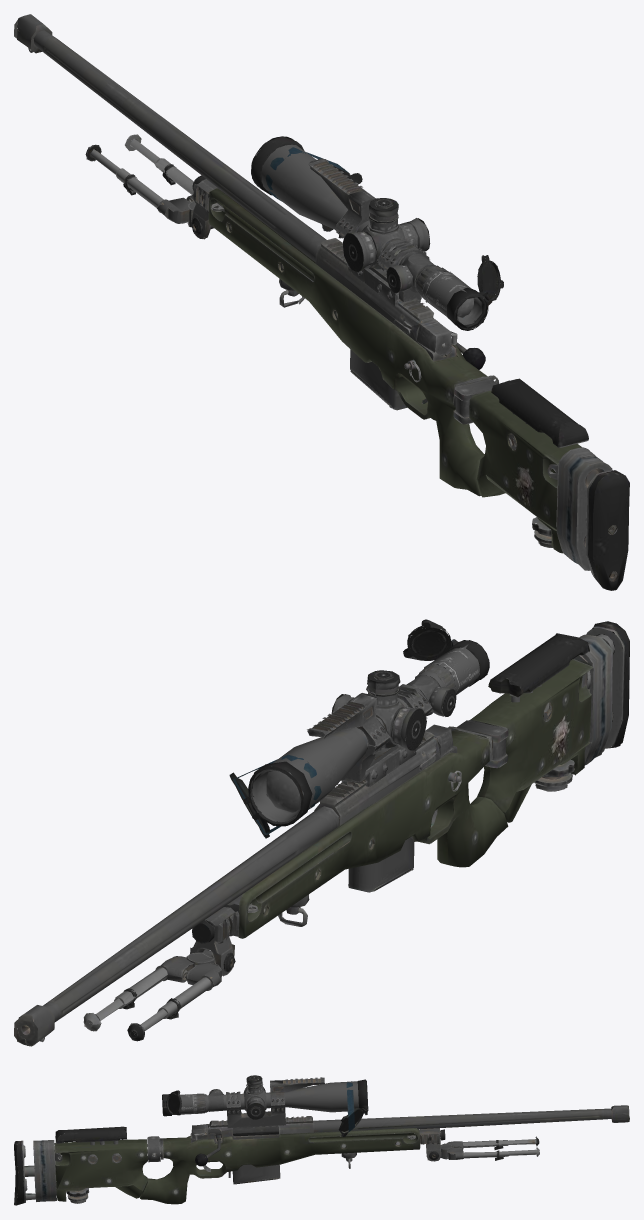
File: awm.glb
3 views of the same model, one above another, from view 1: azimuth 30°, elevation 25°; view 2: azimuth 150°, elevation 25°; view 3: azimuth 270°, elevation 25° (orthographic). The views are drawn at different scales.
Parts seen in each view (by area): view 1: body, mag, bolt; view 2: body, mag; view 3: body, mag, bolt.
Boxes of the visible parts, left/top/right/bottom form: body: left=14, top=14, right=629, bottom=590; mag: left=208, top=188, right=487, bottom=496; bolt: left=404, top=338, right=485, bottom=382; body: left=14, top=619, right=629, bottom=1046; mag: left=238, top=730, right=508, bottom=938; body: left=14, top=1075, right=629, bottom=1205; mag: left=140, top=1128, right=419, bottom=1204; bolt: left=189, top=1133, right=221, bottom=1166.
Bounding box in the file's own units: 0.1307 × 0.2898 × 1.3.
4 materials, 4 textured.
